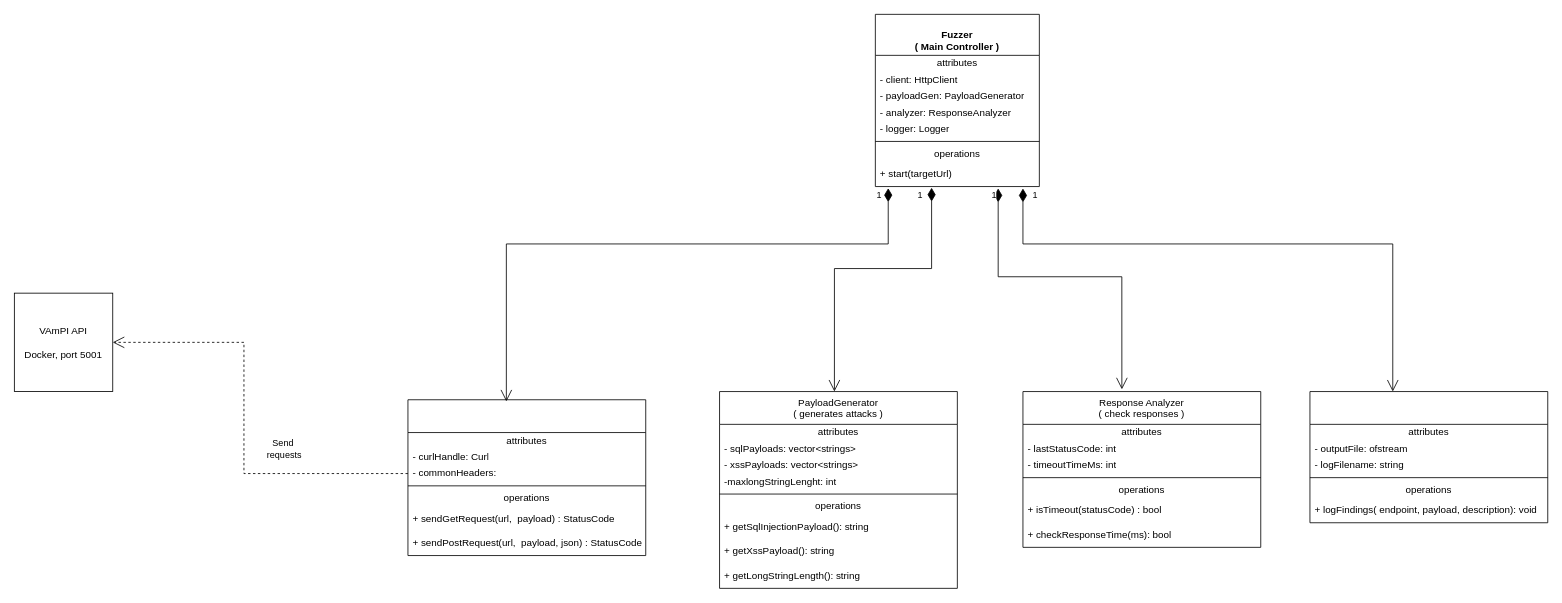
Image size: 1562x603. Some labels were removed from this diagram. The shapes that lost their labels are listed below. From the top down, each one's box as (x1, y1, x2, y2) in pixels, then its label:
(1309, 391, 1548, 523): Logger ( write all events to file )
(407, 399, 646, 556): HtppClient ( use libcurl )
